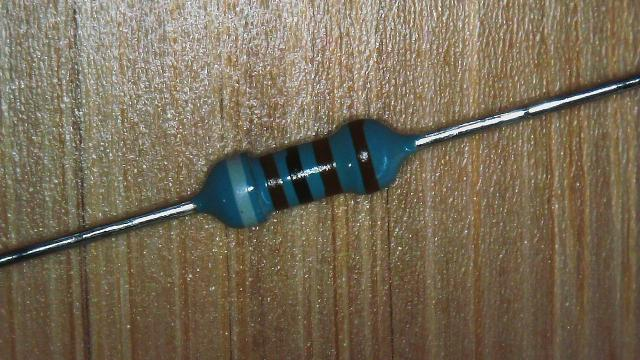black: (284, 146, 314, 204)
brown: (348, 120, 380, 193), (312, 138, 342, 196), (260, 154, 289, 209)
resistor: (178, 108, 425, 235)
white: (228, 157, 250, 228)
